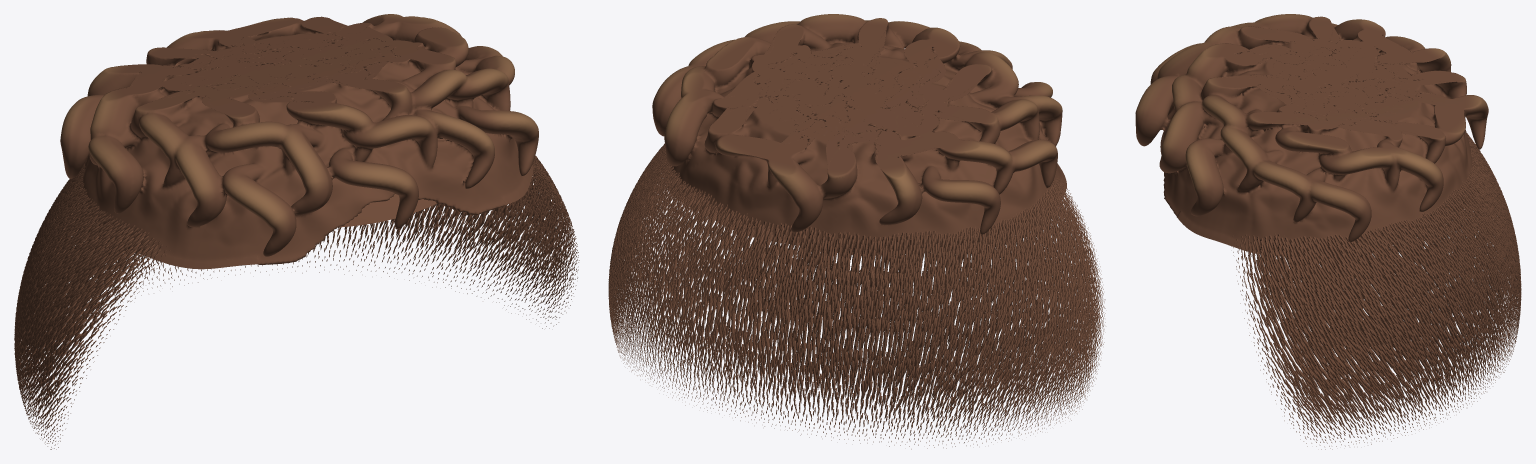
File: Masculine-curly-top-bucket254-hair-ombre.glb
3 views of the same model, side by side, from view 1: azimuth 30°, elevation 25°; view 2: azimuth 150°, elevation 25°; view 3: azimuth 270°, elevation 25° (orthographic). The views are drawn at different scales.
Parts seen in each view (by area): view 1: 226 hair / Hair252 / sculpted curl groups, 226 hair / Hair254 / rooted short groom; view 2: 226 hair / Hair254 / rooted short groom, 226 hair / Hair252 / sculpted curl groups; view 3: 226 hair / Hair252 / sculpted curl groups, 226 hair / Hair254 / rooted short groom.
Boxes of the visible parts, <box> form: 226 hair / Hair252 / sculpted curl groups: <box>60,14,538,269</box>; 226 hair / Hair254 / rooted short groom: <box>14,155,579,449</box>; 226 hair / Hair254 / rooted short groom: <box>608,143,1105,449</box>; 226 hair / Hair252 / sculpted curl groups: <box>652,14,1066,255</box>; 226 hair / Hair252 / sculpted curl groups: <box>1135,14,1488,255</box>; 226 hair / Hair254 / rooted short groom: <box>1160,131,1521,449</box>.
Size of the model in its own units: 0.9716 by 0.6113 by 0.7501.
